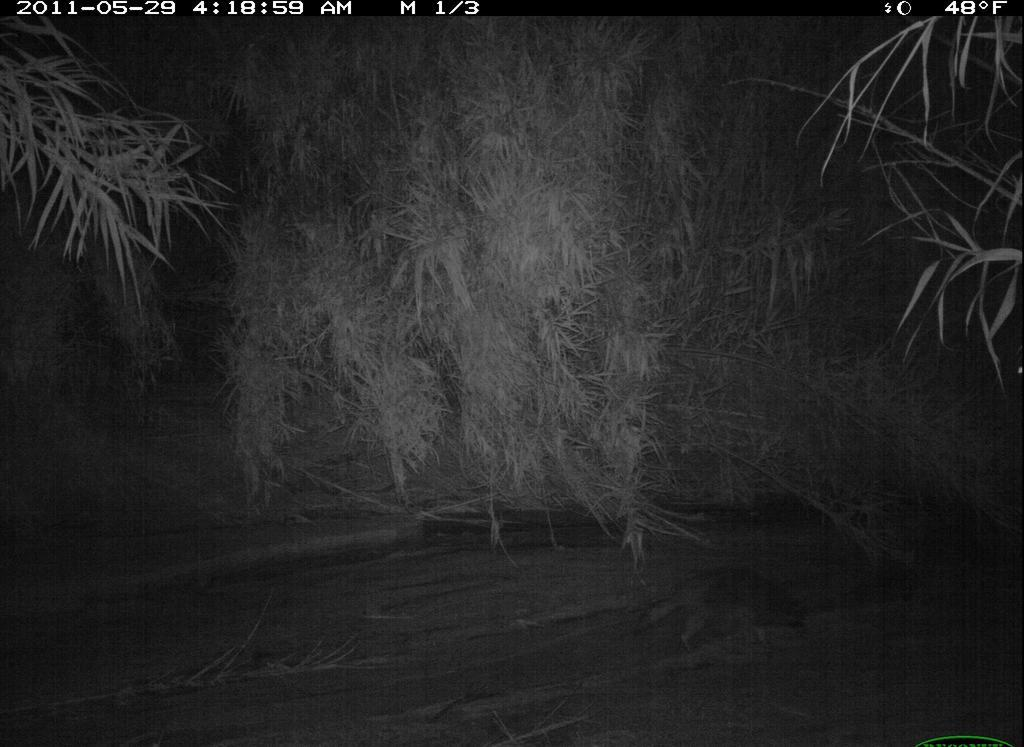raccoon: (632, 561, 817, 655)
